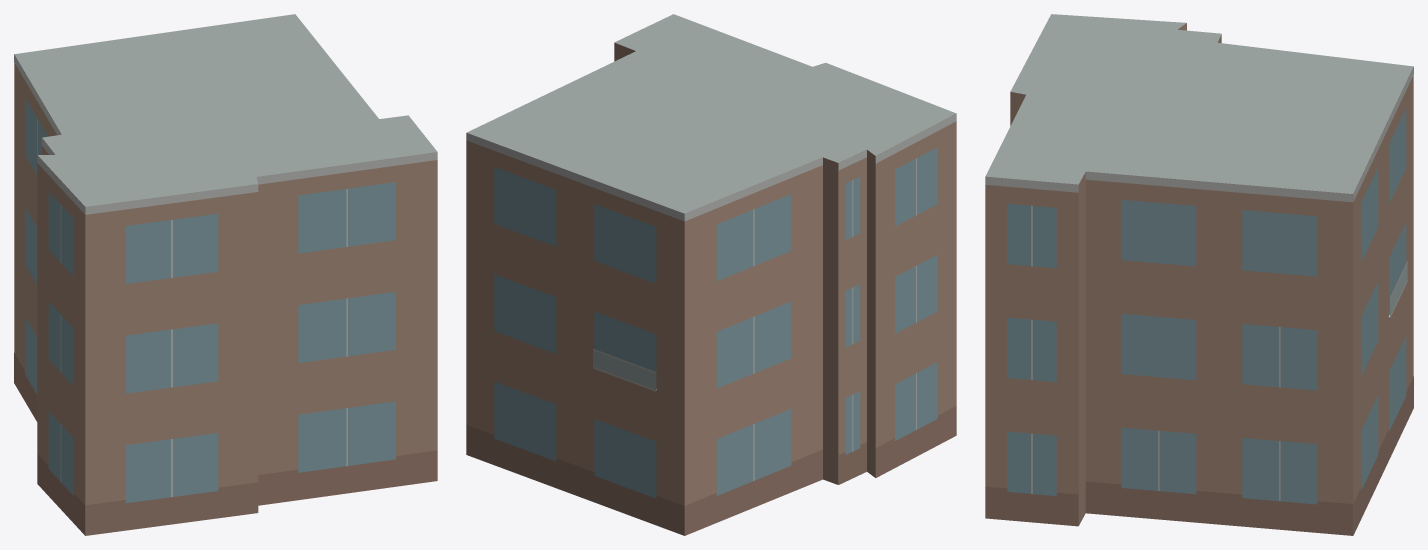
File: survey-upis-32528045.glb
3 renders of one model, left to right at view 1: azimuth 30°, elevation 25°; view 2: azimuth 150°, elevation 25°; view 3: azimuth 270°, elevation 25°, orthographic. The views are drawn at different scales.
Visible parts, largest first — view 1: survey-upis-32528045.tmp; view 2: survey-upis-32528045.tmp; view 3: survey-upis-32528045.tmp.
Boxes of the visible parts, left/top/right/bottom form: survey-upis-32528045.tmp: left=14, top=14, right=437, bottom=535; survey-upis-32528045.tmp: left=466, top=14, right=956, bottom=535; survey-upis-32528045.tmp: left=985, top=14, right=1413, bottom=535.
Size of the model in its own units: 11.54 by 10.2 by 11.6.
